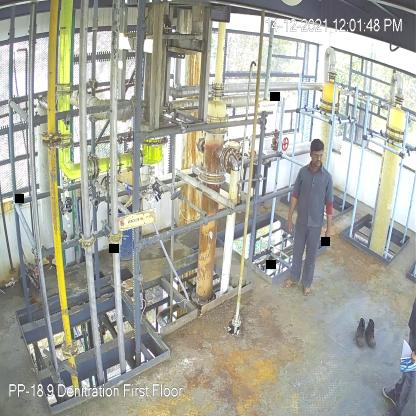no_shoes: (282, 278, 298, 288), (301, 286, 311, 299)
shoes: (354, 316, 369, 348), (366, 319, 378, 347)
